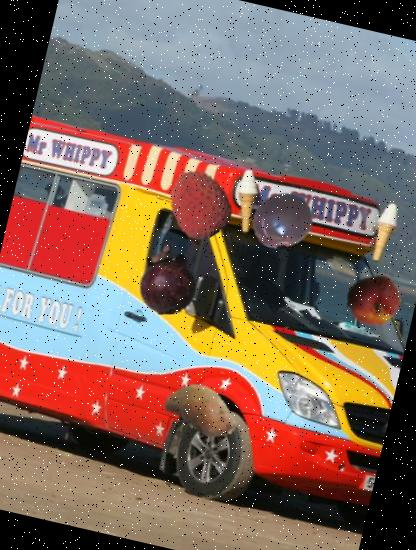Lychee: (157, 162, 240, 246)
Mangostan: (124, 235, 210, 321)
Nectarine: (341, 268, 406, 334)
Passion: (244, 184, 318, 258)
Potato: (157, 364, 249, 456)
